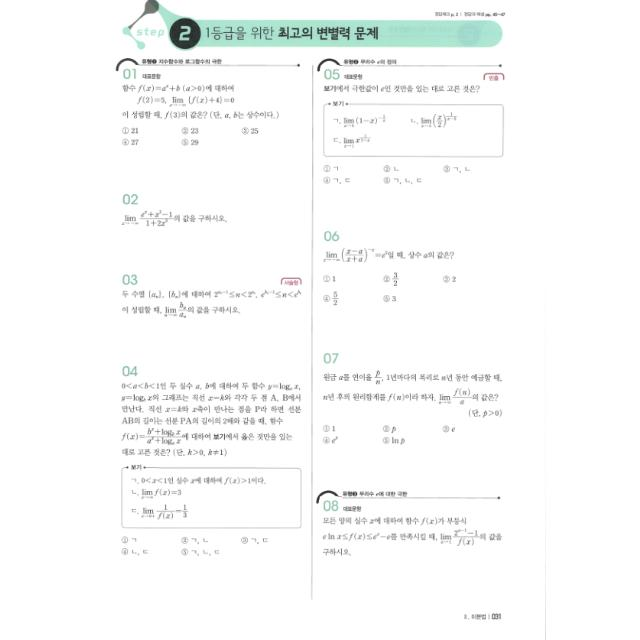multiple: (107, 354, 307, 570), (313, 50, 515, 196), (316, 343, 510, 463), (107, 50, 306, 156), (316, 218, 468, 320)
short: (314, 479, 514, 578), (111, 182, 302, 244), (115, 266, 305, 328)
